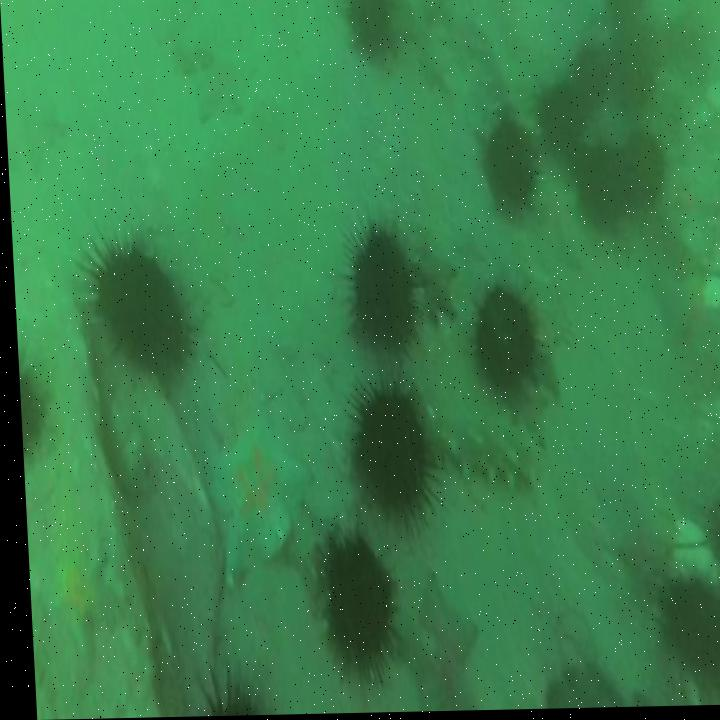echinus: (89, 246, 188, 383), (312, 536, 393, 663), (346, 386, 424, 509), (346, 231, 414, 350), (652, 578, 720, 686), (474, 115, 541, 219), (467, 291, 533, 391), (576, 142, 624, 230), (532, 77, 589, 146), (620, 127, 662, 217), (344, 0, 397, 56), (572, 50, 612, 108)
holothurian: (413, 401, 542, 493)
starfish: (197, 417, 308, 585), (388, 570, 475, 714), (192, 49, 258, 121), (410, 241, 456, 320), (609, 515, 663, 582)
